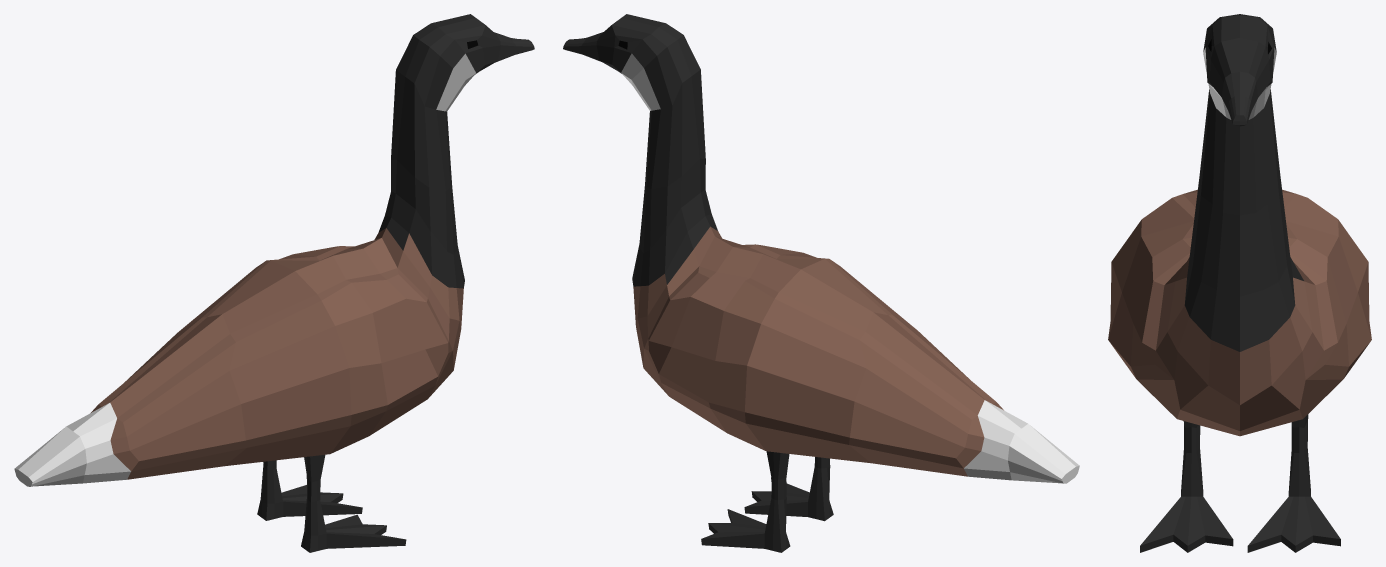
The model's file is goose.glb.
3 views of the same model, side by side, from view 1: azimuth 30°, elevation 25°; view 2: azimuth 150°, elevation 25°; view 3: azimuth 270°, elevation 25° (orthographic). The views are drawn at different scales.
Parts seen in each view (by area): view 1: Cube.001; view 2: Cube.001; view 3: Cube.001.
Part boxes in pixels (x1,y1,x2,y2): Cube.001: (14, 14, 534, 552); Cube.001: (563, 14, 1079, 552); Cube.001: (1108, 14, 1371, 552).
Size of the model in its own units: 1.93 by 1.7 by 0.7007.
